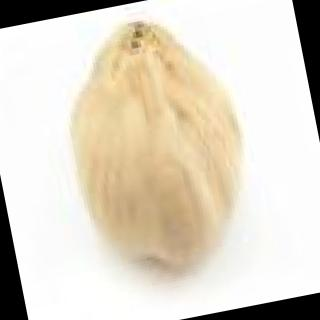Bawang Putih: (42, 4, 265, 295)
